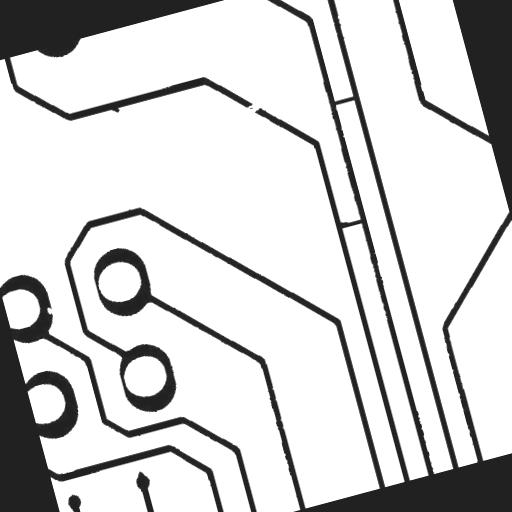mousebite: (38, 296, 62, 323)
open: (232, 93, 268, 124)
short: (327, 207, 371, 238), (322, 86, 364, 114)
spur: (94, 93, 128, 124)
